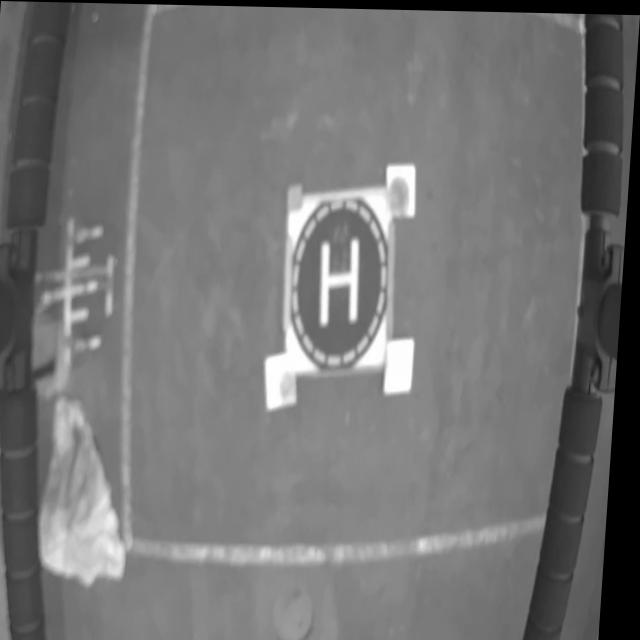Helipad: (323, 236, 361, 325)
